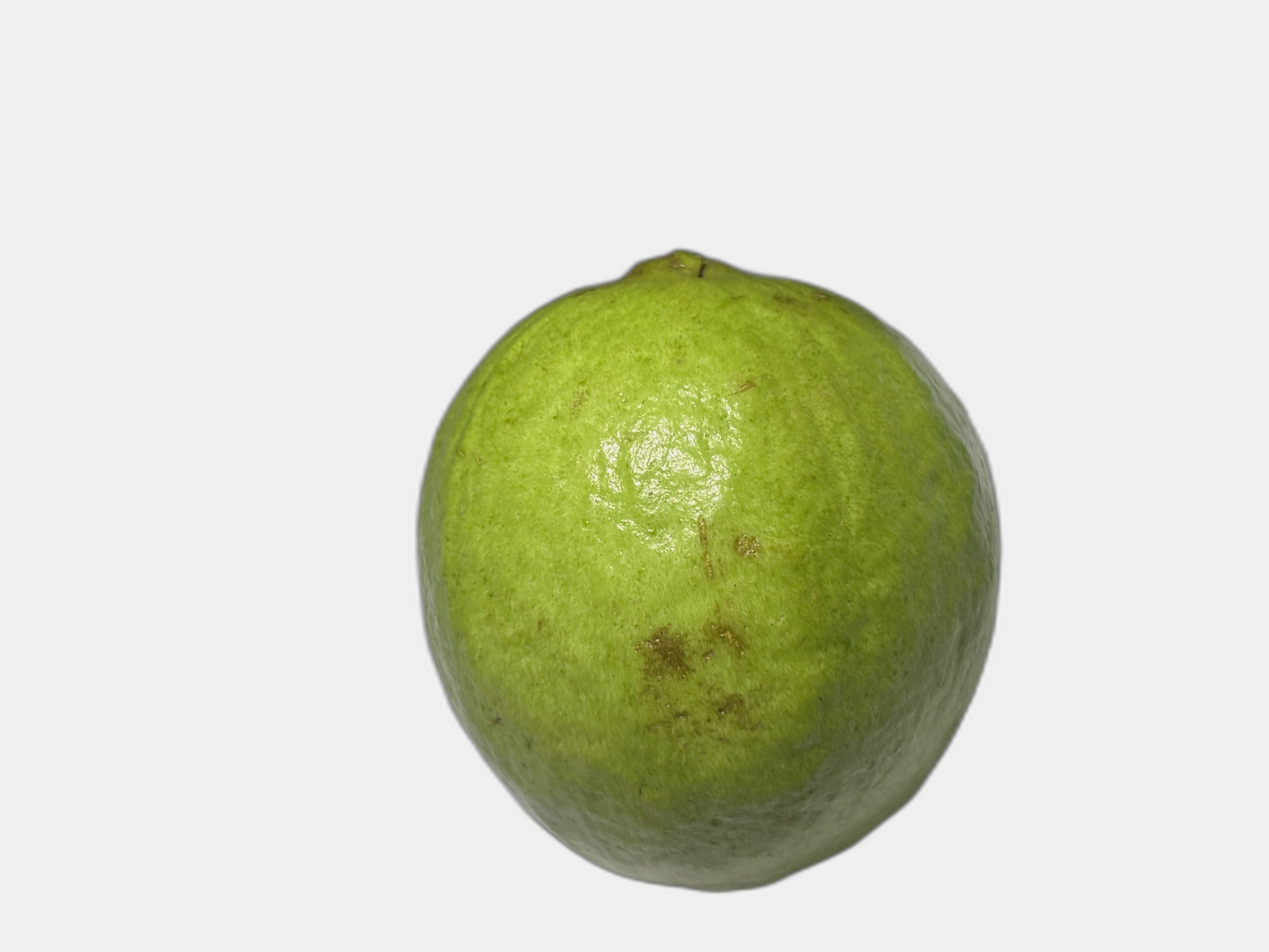guava: (301, 67, 1191, 717)
